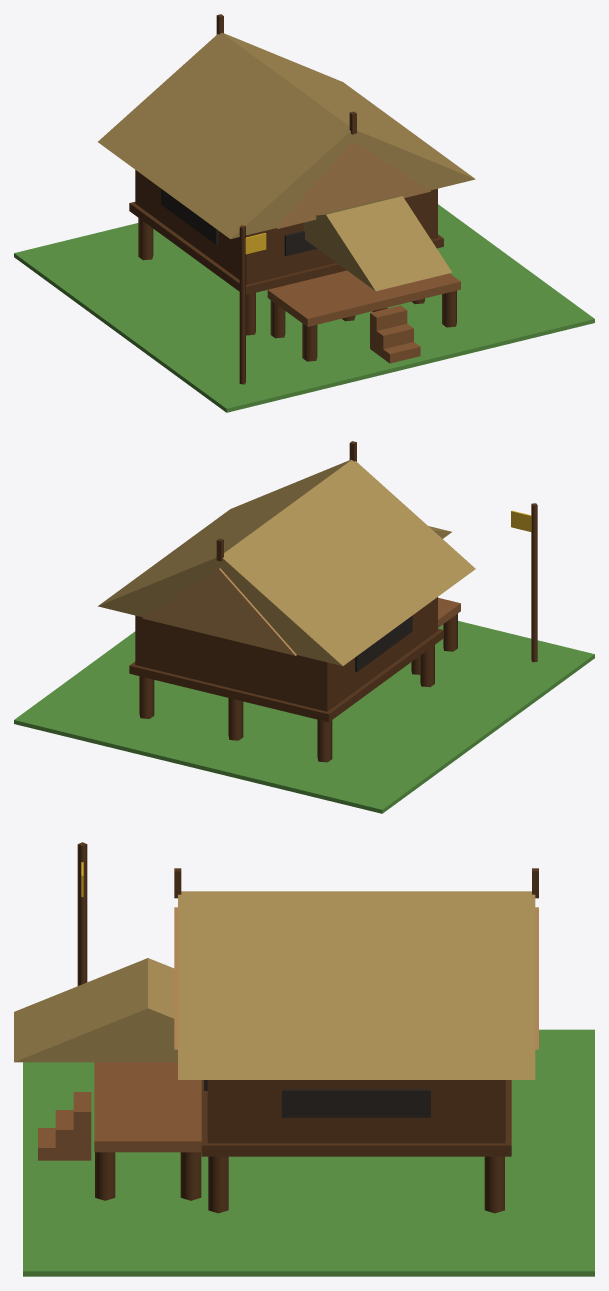
File: building_balai.glb
The picture shows the model from 3 angles, top to bottom: view 1: azimuth 30°, elevation 25°; view 2: azimuth 150°, elevation 25°; view 3: azimuth 270°, elevation 25°; orthographic projection. The views are drawn at different scales.
Visible parts, largest first — view 1: building_balai; view 2: building_balai; view 3: building_balai.
Boxes of the visible parts, <box> form: building_balai: <box>14,14,594,412</box>; building_balai: <box>14,441,594,813</box>; building_balai: <box>14,842,594,1276</box>.
Size of the model in its own units: 0.96 by 0.53 by 0.975.
